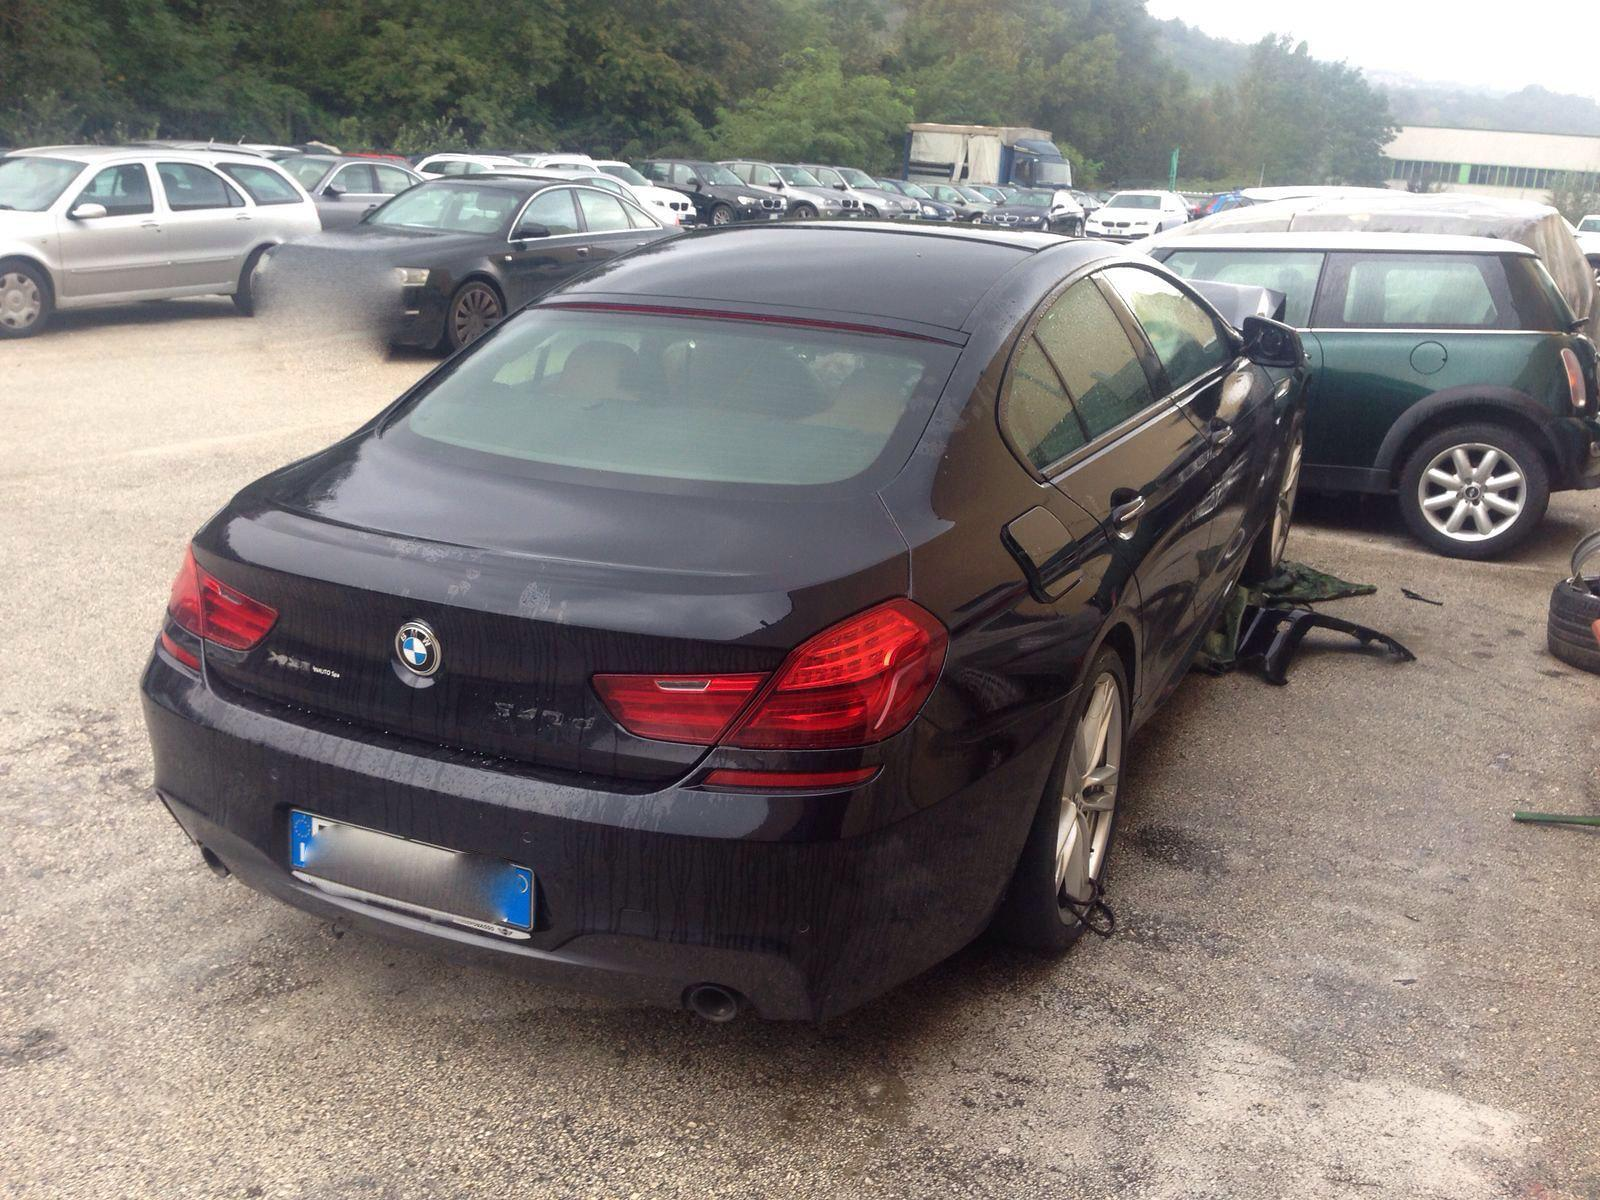boot-dent: (331, 553, 813, 805)
